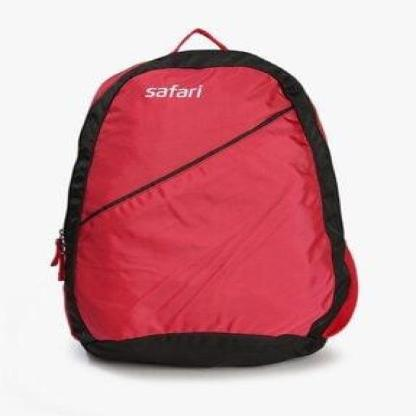bag: (49, 40, 362, 375)
